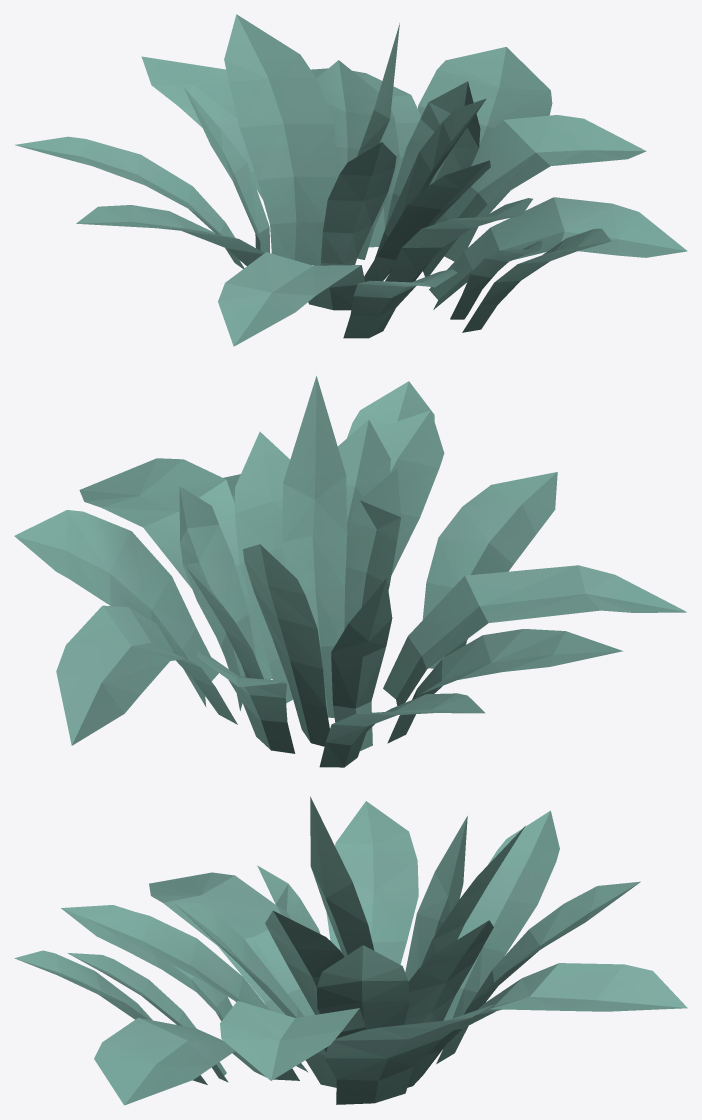
Rendered from bush_leafy.glb.
3 renders of one model, top to bottom at view 1: azimuth 30°, elevation 25°; view 2: azimuth 150°, elevation 25°; view 3: azimuth 270°, elevation 25°, orthographic. The views are drawn at different scales.
Parts seen in each view (by area): view 1: bush_leafy; view 2: bush_leafy; view 3: bush_leafy.
Part boxes in pixels (box(x1,y1,x2,y2)): bush_leafy: box(15, 14, 687, 346); bush_leafy: box(14, 376, 686, 767); bush_leafy: box(14, 796, 687, 1105).
Bounding box in the file's own units: 1.43 × 0.7 × 1.57.
1 material, 1 textured.
